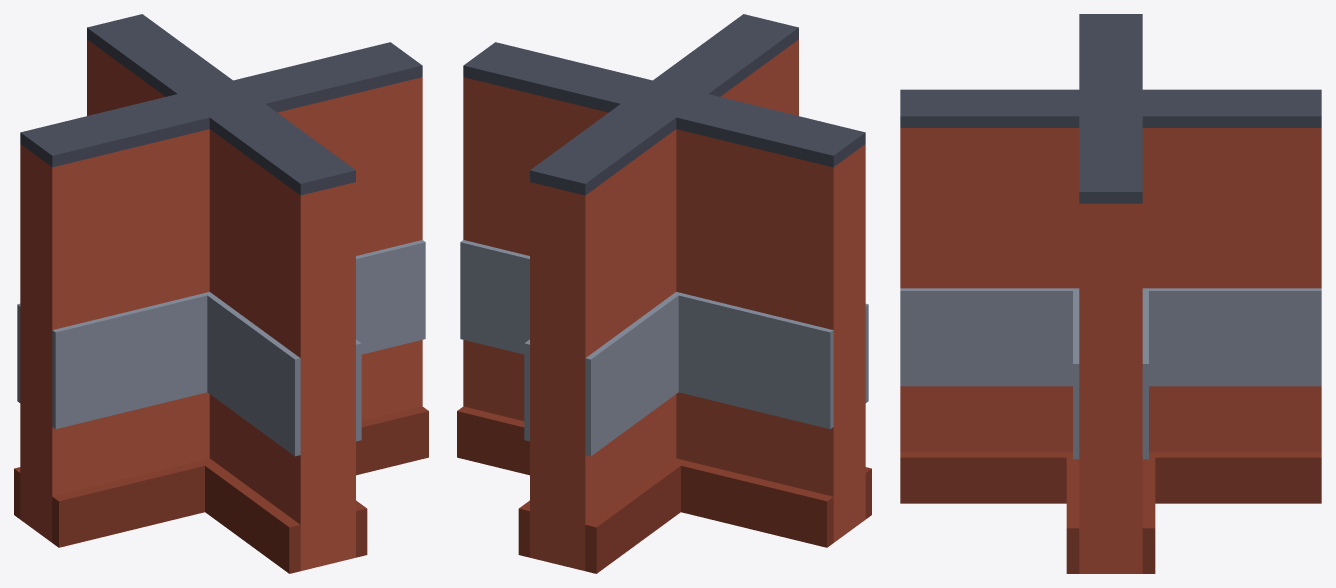
The model's file is partition-full-cross.glb.
3 renders of one model, left to right at view 1: azimuth 30°, elevation 25°; view 2: azimuth 150°, elevation 25°; view 3: azimuth 270°, elevation 25°, orthographic.
Parts seen in each view (by area): view 1: partition-full-cross; view 2: partition-full-cross; view 3: partition-full-cross.
Boxes of the visible parts, box(x1,y1,x2,y2) form: partition-full-cross: box(14, 14, 428, 573); partition-full-cross: box(457, 14, 871, 573); partition-full-cross: box(900, 14, 1321, 573).
Bounding box in the file's own units: 1 × 1 × 1.
Materials: 1 (1 with a texture image).
